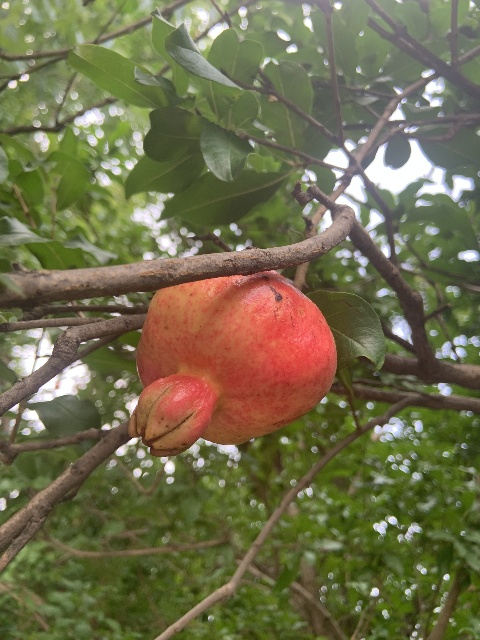ripe: (127, 269, 337, 456)
